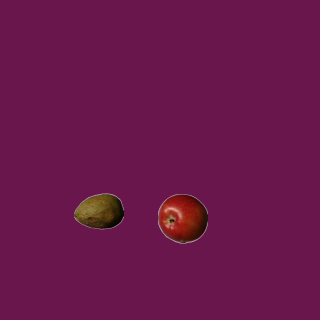Apple Braeburn: (157, 193, 207, 243)
Papaya: (73, 186, 123, 236)
